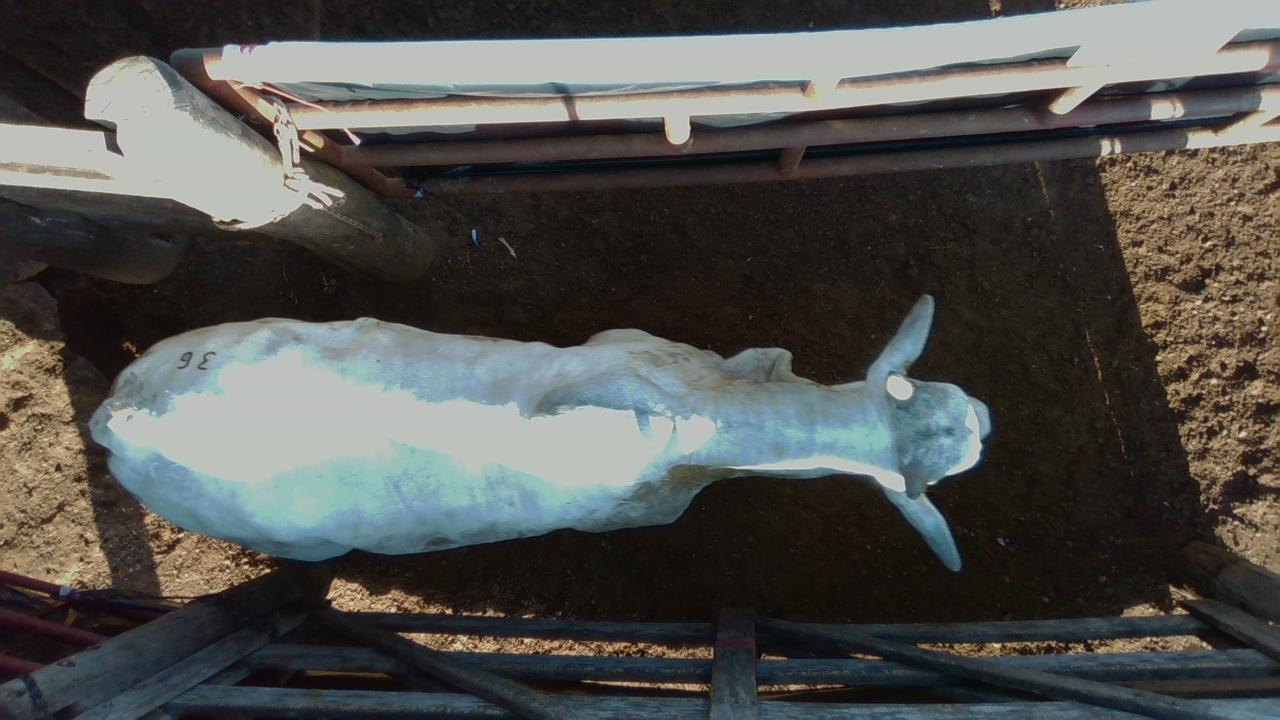cattle: (87, 291, 992, 572)
